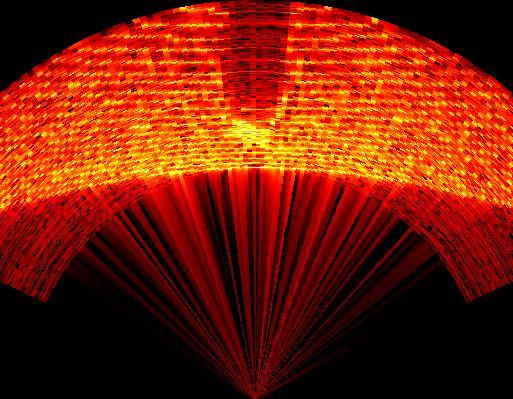box_crate: (214, 0, 300, 154)
